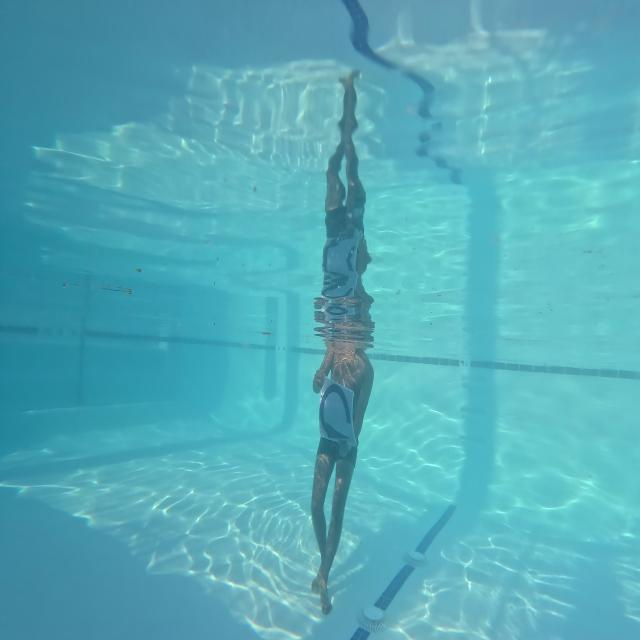blue_side: (310, 369, 362, 459)
